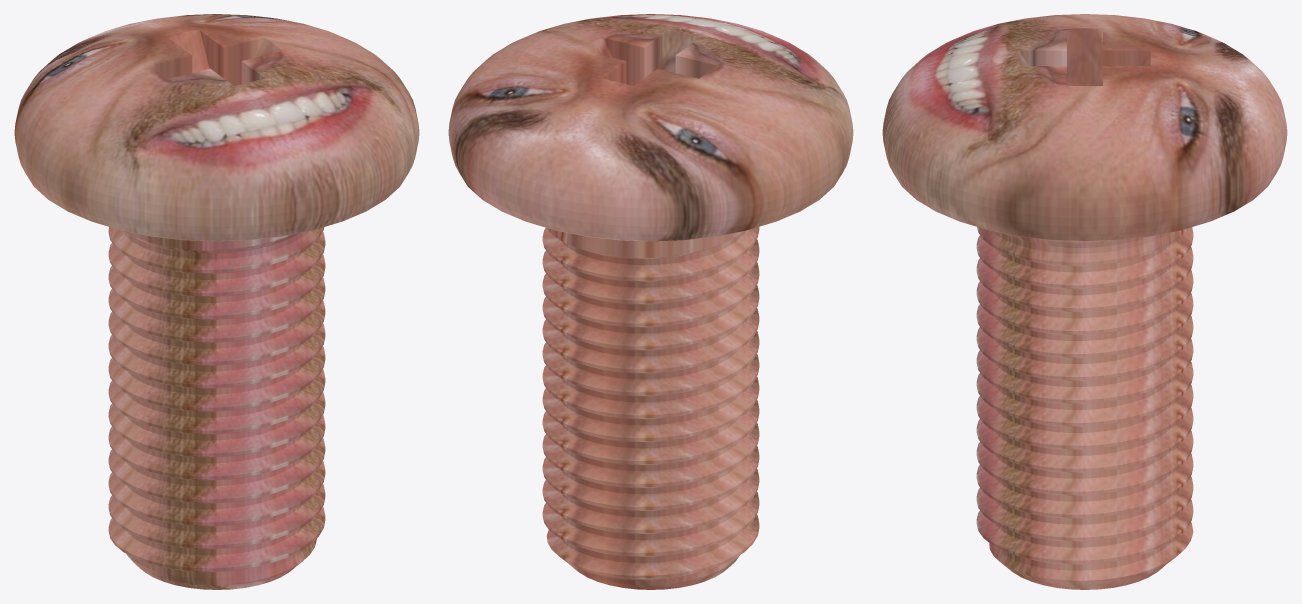
File: kroeger-pan-phillips-bolt.glb
3 renders of one model, left to right at view 1: azimuth 30°, elevation 25°; view 2: azimuth 150°, elevation 25°; view 3: azimuth 270°, elevation 25°, orthographic.
Parts seen in each view (by area): view 1: Bolt.024; view 2: Bolt.024; view 3: Bolt.024.
Boxes of the visible parts, <box> form: Bolt.024: <box>14,14,419,589</box>; Bolt.024: <box>448,14,853,589</box>; Bolt.024: <box>882,14,1287,589</box>.
Size of the model in its own units: 0.0112 by 0.0152 by 0.0112.
Materials: 1 (1 with a texture image).
